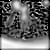node: (12, 1, 31, 23), (41, 1, 50, 7)
